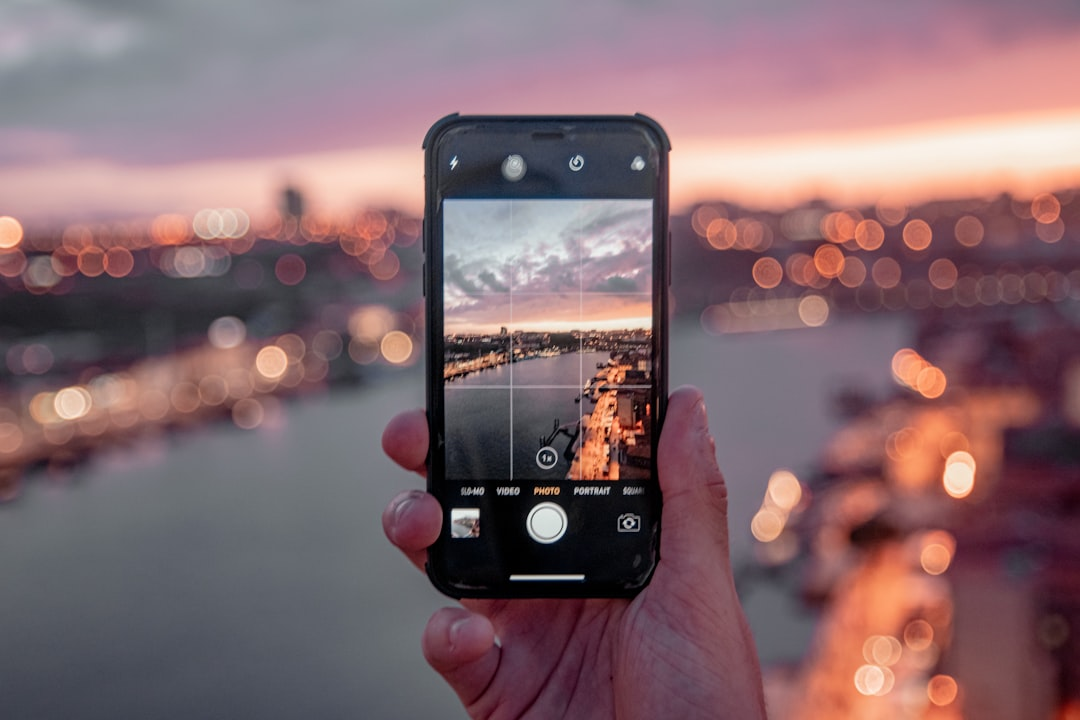phone: (421, 116, 670, 594)
